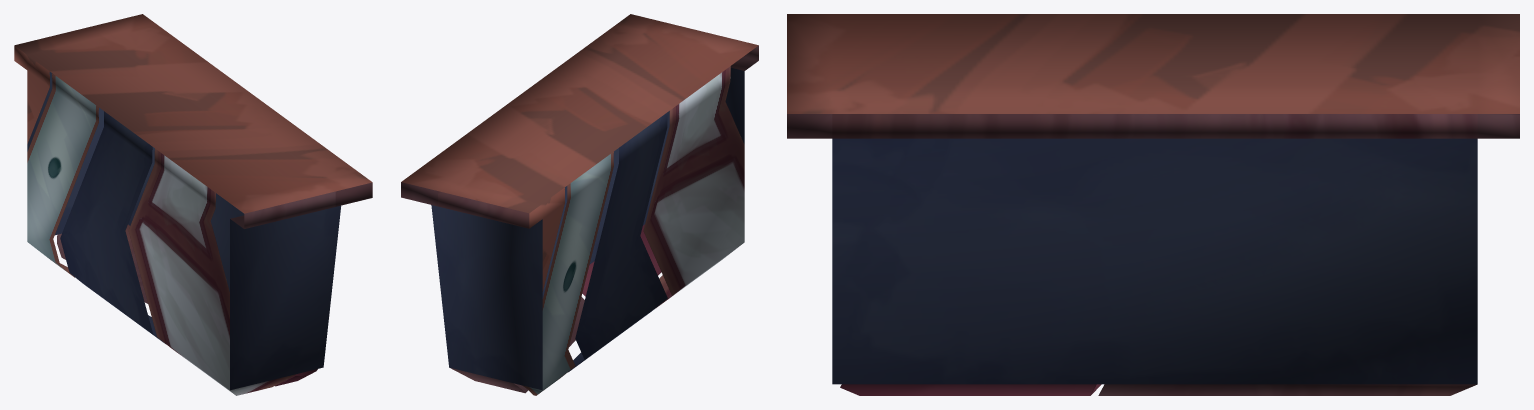
The model's file is BalcaoPequeno.fbx.
3 views of the same model, side by side, from view 1: azimuth 30°, elevation 25°; view 2: azimuth 150°, elevation 25°; view 3: azimuth 270°, elevation 25° (orthographic). The views are drawn at different scales.
Parts seen in each view (by area): view 1: BalcaoPequeno; view 2: BalcaoPequeno; view 3: BalcaoPequeno.
Part boxes in pixels (<box>): BalcaoPequeno: <box>14,14,372,395</box>; BalcaoPequeno: <box>401,14,758,395</box>; BalcaoPequeno: <box>787,14,1519,395</box>.
Bounding box in the file's own units: 92.43 × 287 × 139.
